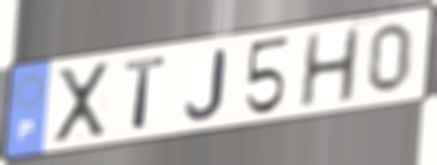0: (364, 20, 418, 97)
5: (243, 33, 293, 118)
H: (296, 24, 363, 111)
J: (183, 46, 227, 122)
T: (123, 53, 169, 133)
X: (53, 59, 112, 148)
